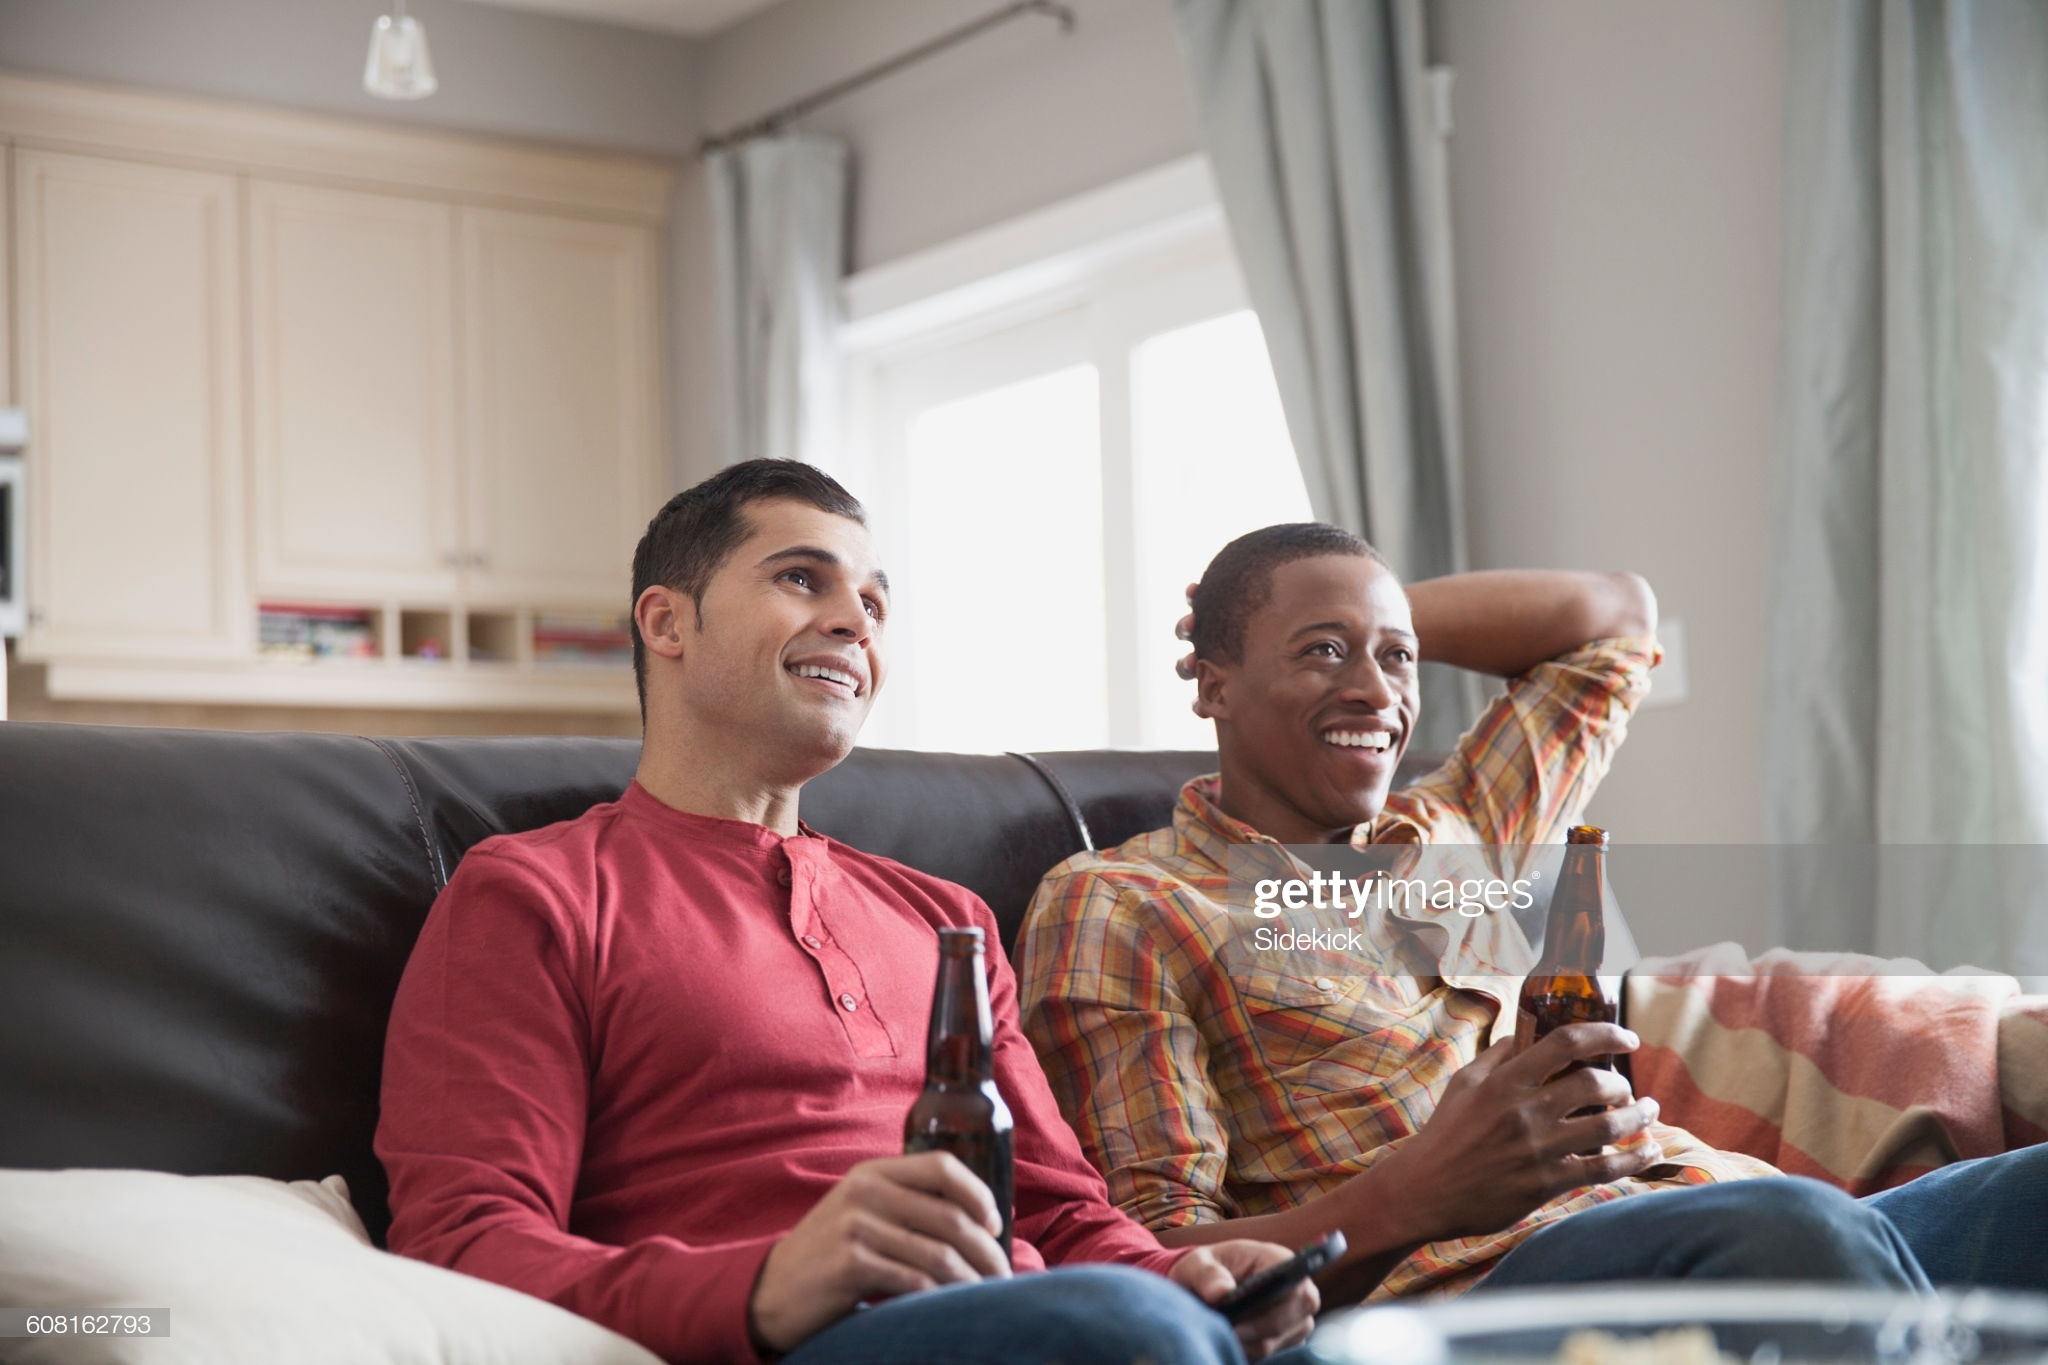beerBottle: (904, 935, 1026, 1280), (1517, 818, 1648, 1121)
